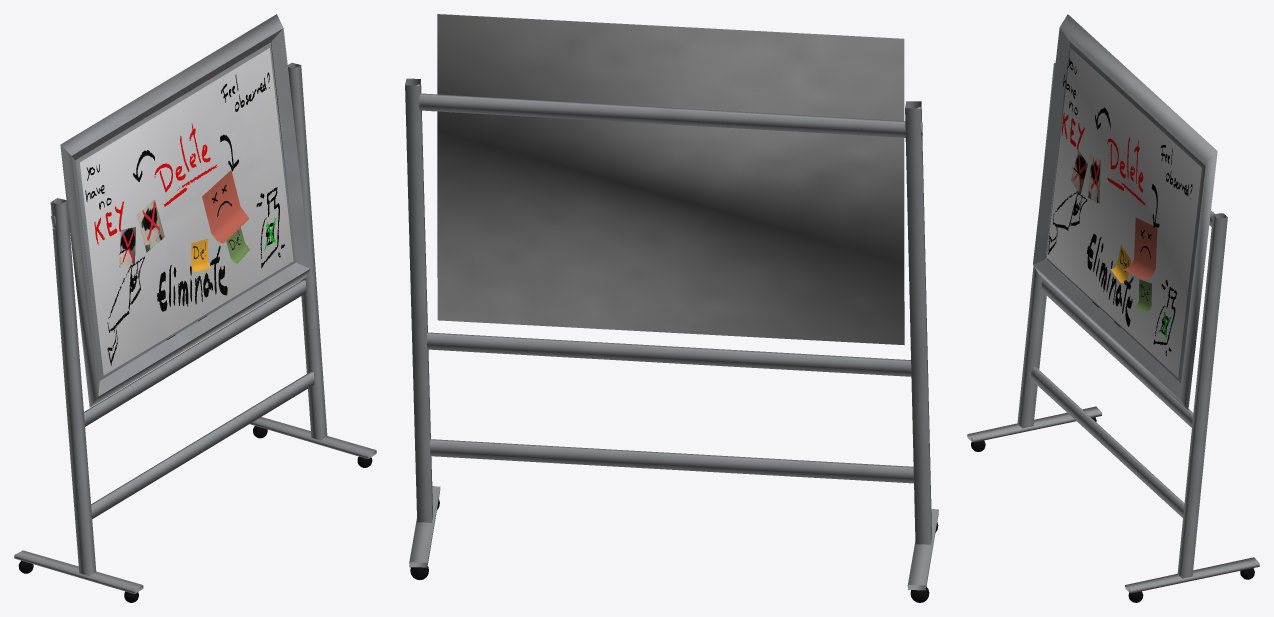
File: PizarraCamaras.fbx
3 renders of one model, left to right at view 1: azimuth 30°, elevation 25°; view 2: azimuth 150°, elevation 25°; view 3: azimuth 270°, elevation 25°, orthographic. The views are drawn at different scales.
Visible parts, largest first — view 1: Pizarra.001; view 2: Pizarra.001; view 3: Pizarra.001.
Part boxes in pixels (x1,y1,x2,y2): Pizarra.001: (14,14,376,602); Pizarra.001: (405,14,938,602); Pizarra.001: (967,14,1259,602).
Size of the model in its own units: 181 by 197 by 122.
